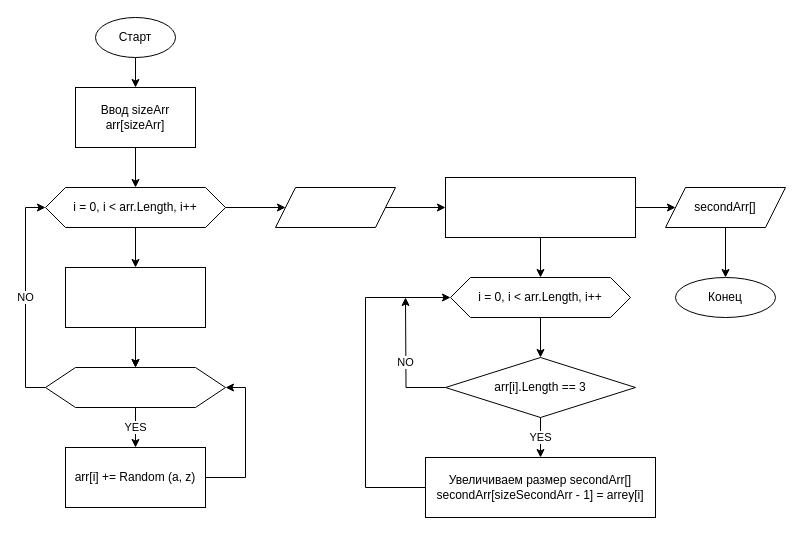
The diagram is 803 pixels wide and 535 high, and some of its shapes have lost their labels. The shapes that lost their labels are listed below. From the top down, each one's centre as x and y in pixels, then its label:
point (335, 207): arr[]
point (540, 207): Ввод sizeSecondArr secondArr[sizeSecondArr]
point (135, 297): Random sizeSecondArr
point (135, 387): j = 0, j < stringSize, j++
